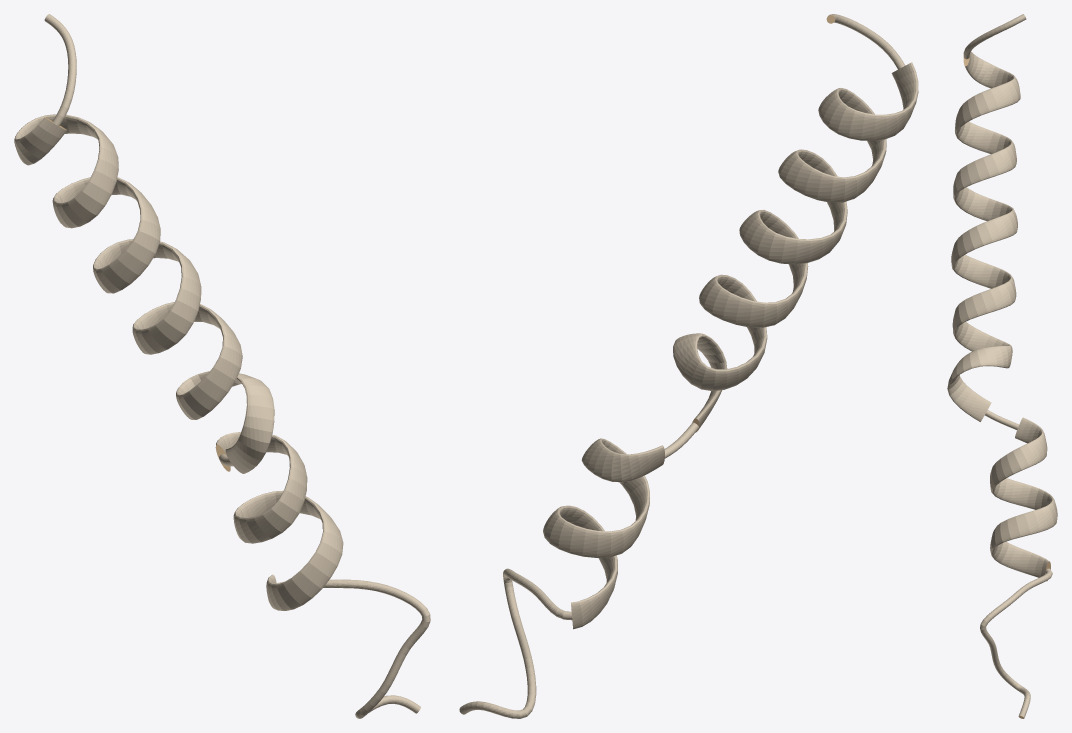
File: rCoilSheetrCoil.dae
3 views of the same model, side by side, from view 1: azimuth 30°, elevation 25°; view 2: azimuth 150°, elevation 25°; view 3: azimuth 270°, elevation 25° (orthographic). The views are drawn at different scales.
Visible parts, largest first — view 1: Shape_IndexedTriangleStripSet_035; view 2: Shape_IndexedTriangleStripSet_035; view 3: Shape_IndexedTriangleStripSet_035.
Boxes of the visible parts, x1,y1,x2,y2 form: Shape_IndexedTriangleStripSet_035: (14, 14, 430, 718); Shape_IndexedTriangleStripSet_035: (459, 14, 918, 718); Shape_IndexedTriangleStripSet_035: (947, 14, 1057, 718).
Size of the model in its own units: 28.75 by 8.79 by 50.56.
